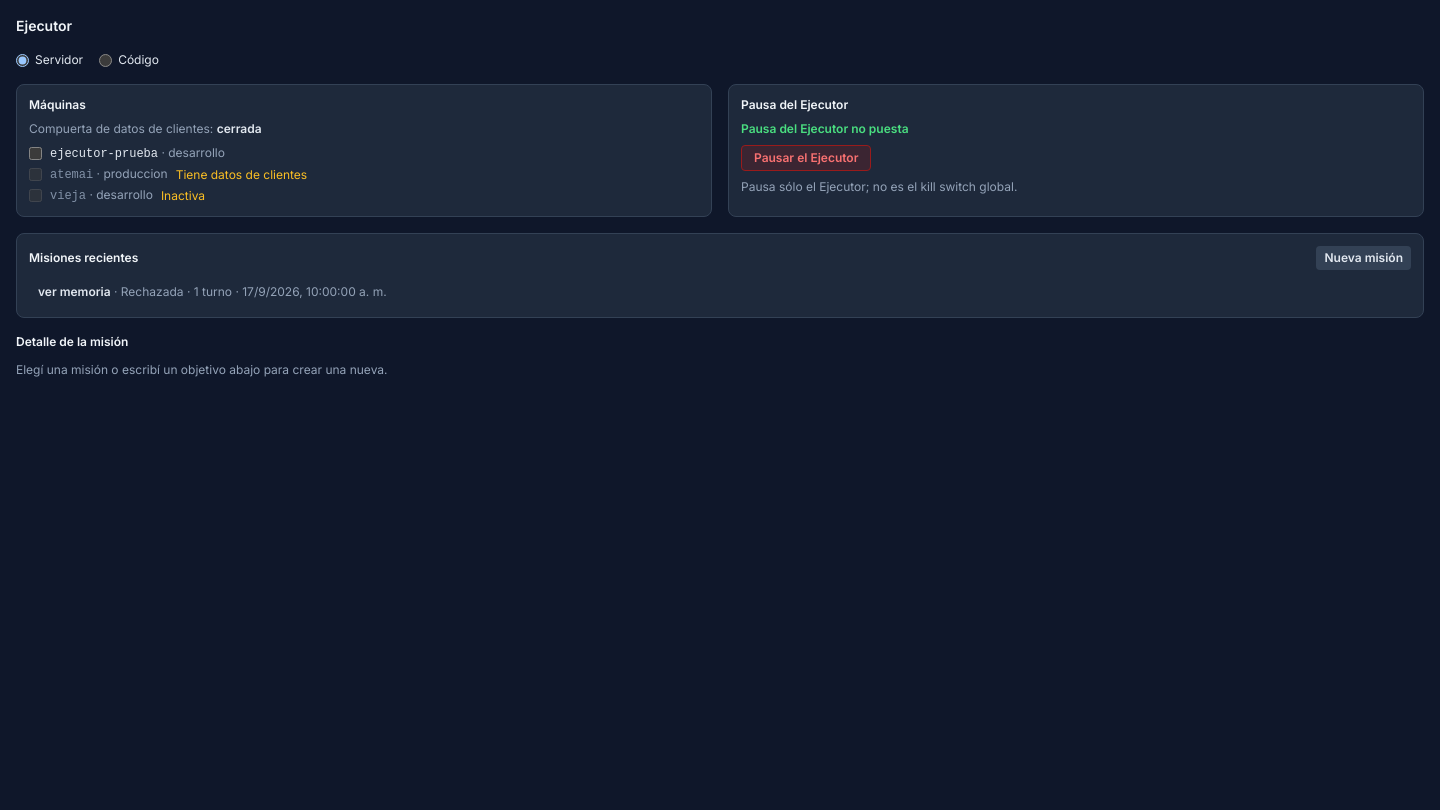
Ejecutor -- detalle de misión › rechazada: contrato y código traducidos, con los datos visibles
The image size is (1440, 810).
Click the button "ver memoria": x=74, y=292 [29, 279, 1411, 305]
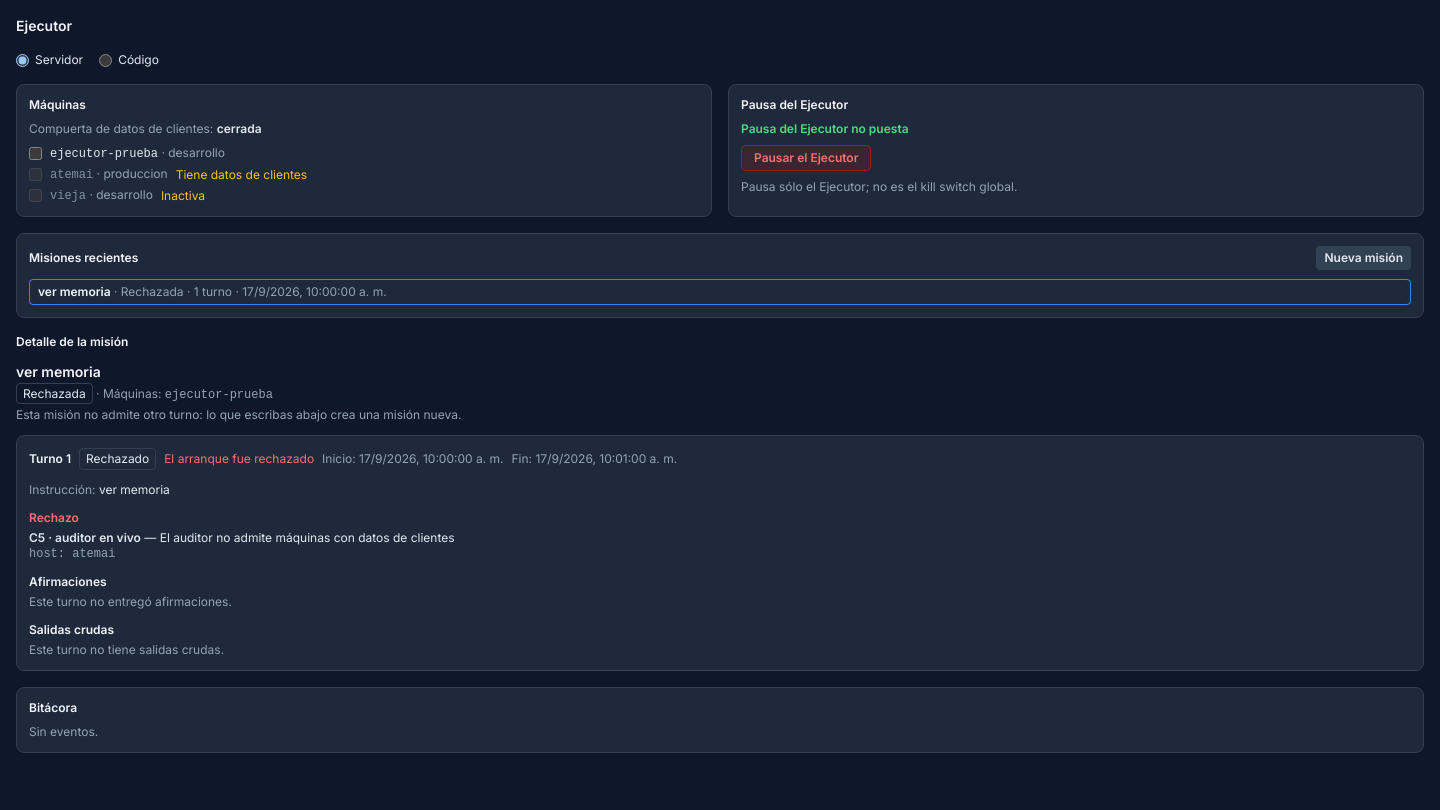
Check: the text "C5 · auditor en vivo" is shown, box [29, 530, 141, 545]
Check: the text "El auditor no admite máquinas con datos de clientes" is shown, box [160, 530, 455, 545]
Check: the text "host: atemai" is shown, box [29, 547, 115, 561]
